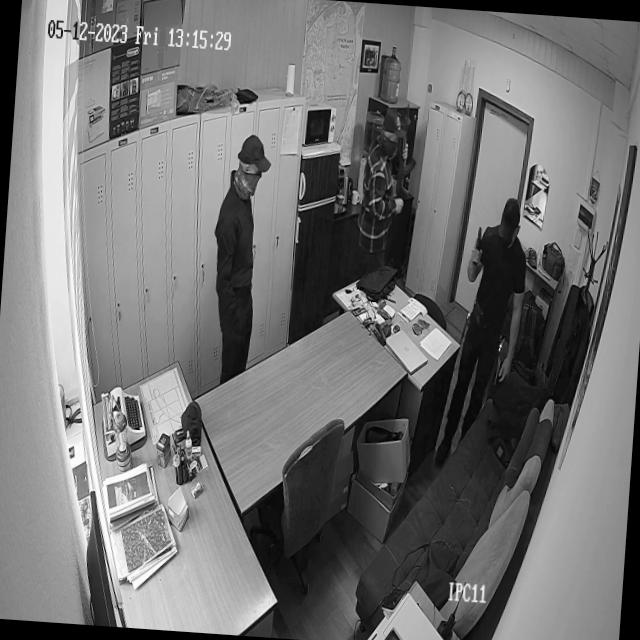gun: (391, 108, 419, 212), (471, 224, 486, 268)
person: (206, 134, 272, 384)
person with a gun: (435, 200, 528, 464), (356, 92, 420, 289)
